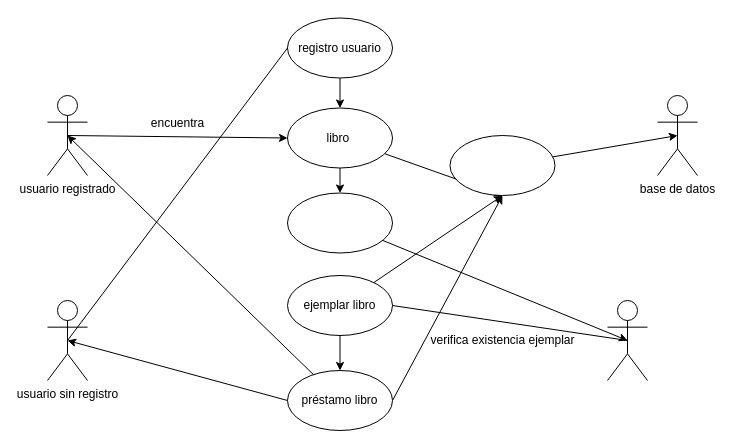
The diagram is 732 pixels wide and 448 high, and some of its shapes have lost their labels. Here are the shapes that lost their labels. From the top down, the centre of each, then its label:
At [502,165]: "historial".
At [339,222]: "reserva libro".
At [627,340]: "administrador biblioteca".
